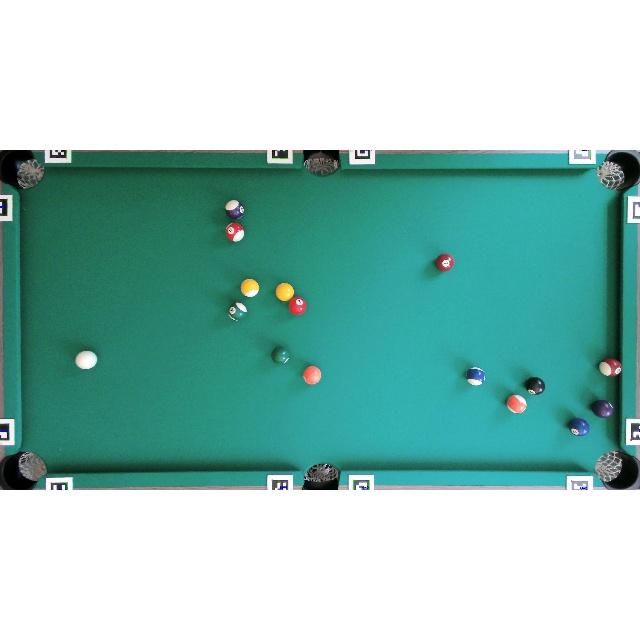cue ball: (74, 350, 98, 370)
other: (598, 358, 621, 378), (591, 399, 614, 418), (506, 394, 527, 414), (240, 278, 260, 298), (302, 365, 322, 385), (228, 302, 248, 321), (568, 418, 589, 436), (466, 367, 485, 386), (275, 282, 294, 301), (525, 377, 545, 395), (288, 296, 306, 316), (226, 200, 244, 220), (226, 222, 244, 242), (435, 254, 454, 272), (271, 346, 290, 364)
